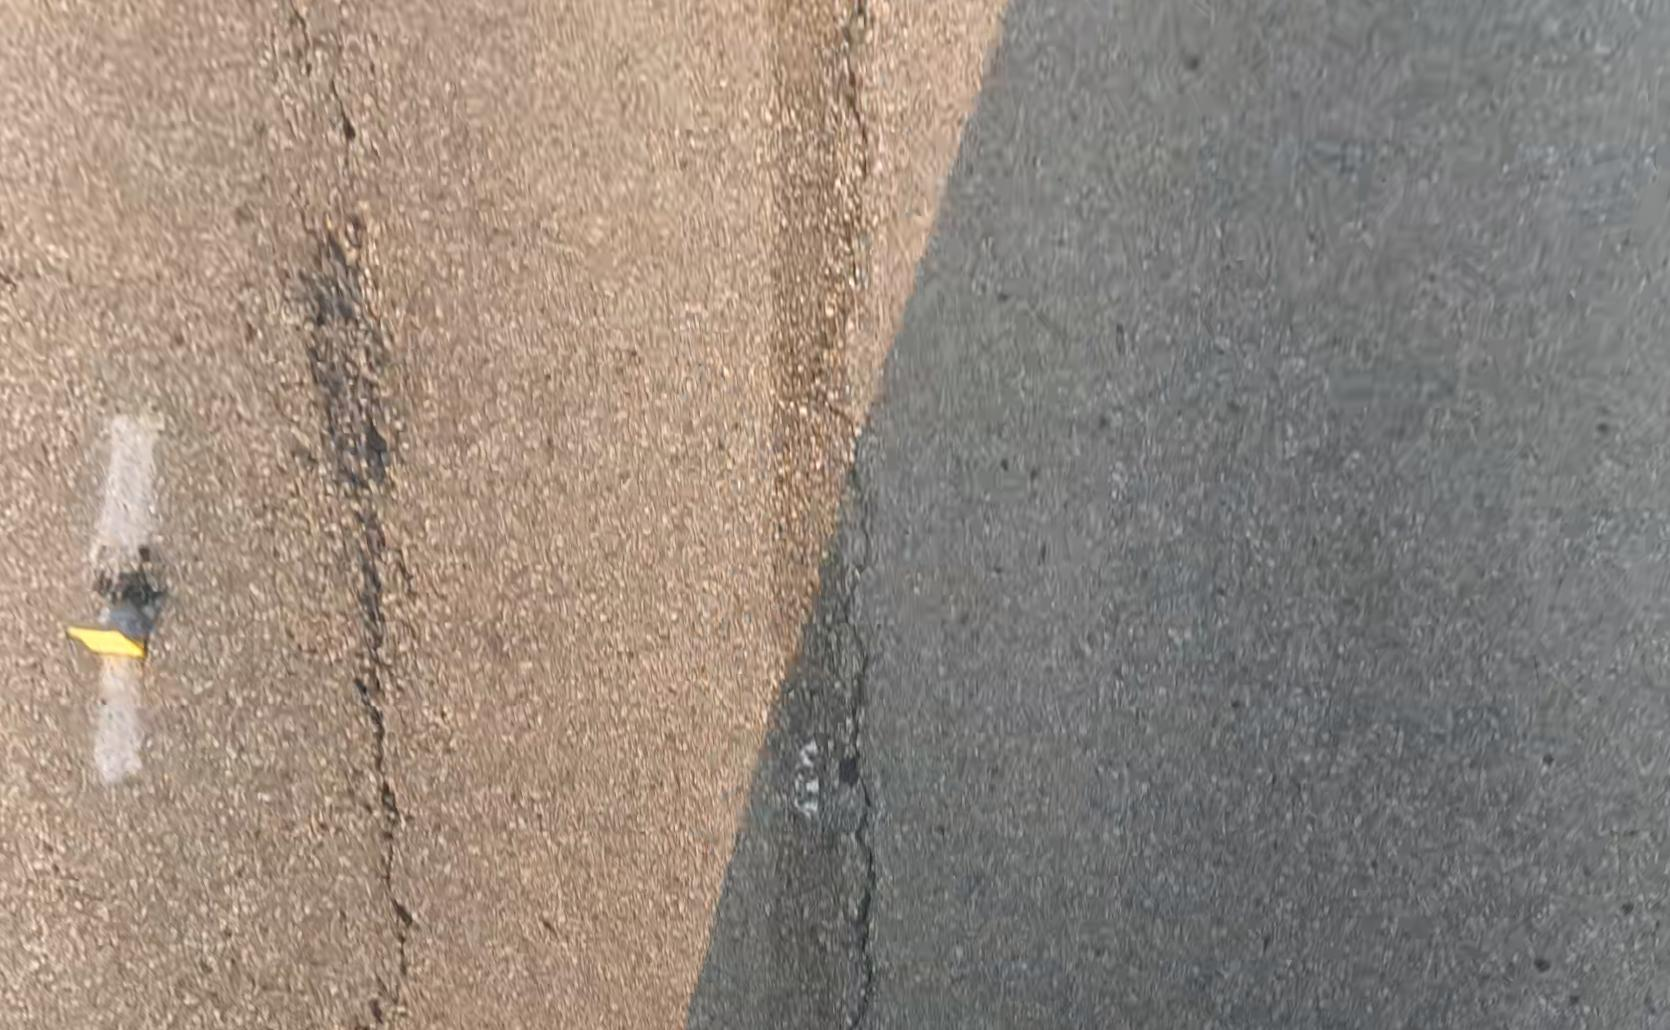pothole: (295, 212, 396, 502)
